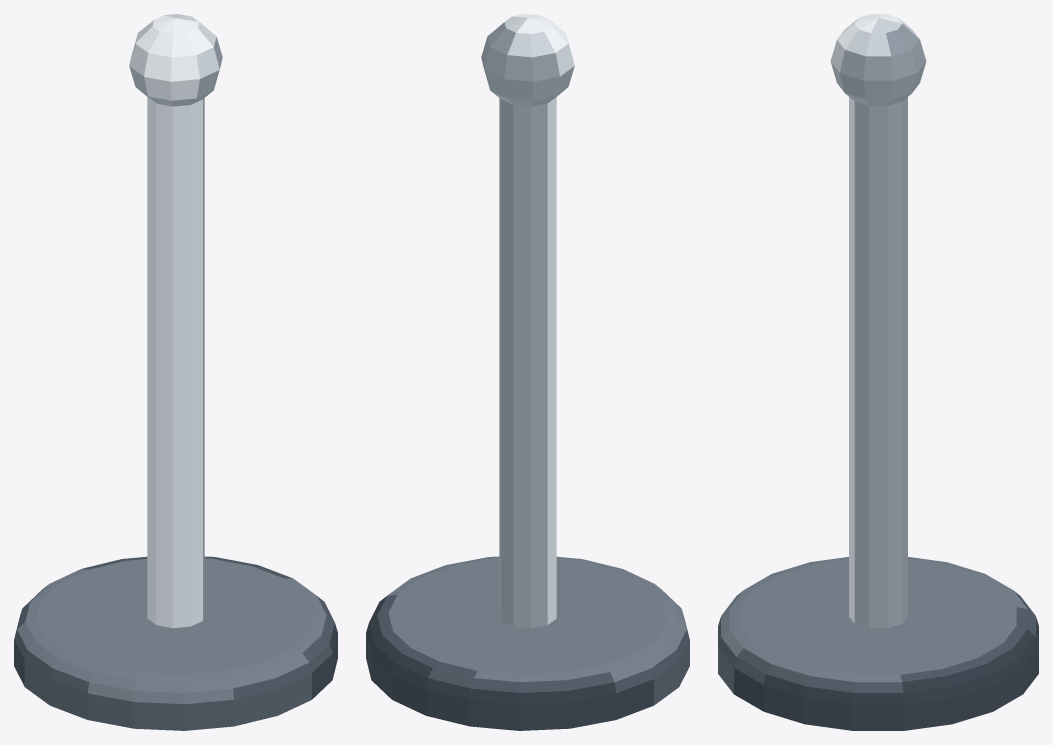
File: Checkpoint_Post.gltf
3 renders of one model, left to right at view 1: azimuth 30°, elevation 25°; view 2: azimuth 150°, elevation 25°; view 3: azimuth 270°, elevation 25°, orthographic.
Visible parts, largest first — view 1: Checkpoint_Post_baked; view 2: Checkpoint_Post_baked; view 3: Checkpoint_Post_baked.
Part boxes in pixels (x1=…): Checkpoint_Post_baked: x1=14, y1=14, x2=337, y2=730; Checkpoint_Post_baked: x1=366, y1=14, x2=689, y2=730; Checkpoint_Post_baked: x1=718, y1=14, x2=1038, y2=730.
Size of the model in its own units: 0.4346 by 0.965 by 0.4346.
